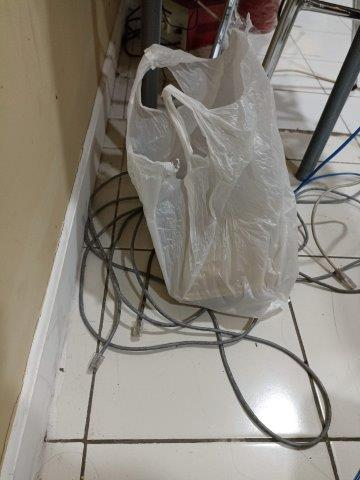plastik: (124, 29, 297, 316)
